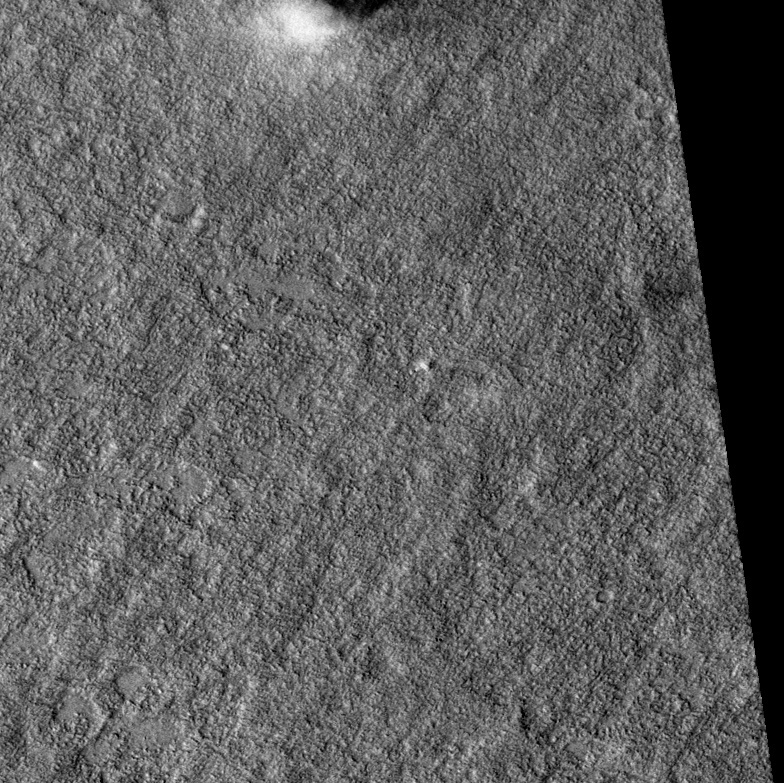dust_devil: (255, 1, 399, 48)
